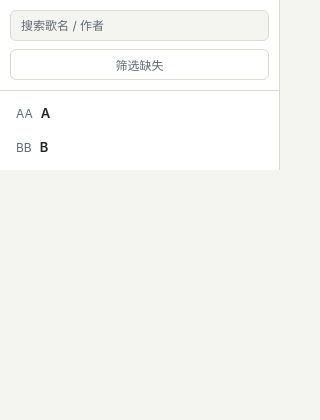
Scenario: SongList — 缺失筛选面板 › 扫描有错误且无命中时不误报为没有缺失歌曲
What coordinates should you click on to do the following:
click the button with class "missing-filter-btn"
I would click on:
 (140, 64)
Its box is left=10, top=49, right=269, bottom=80.
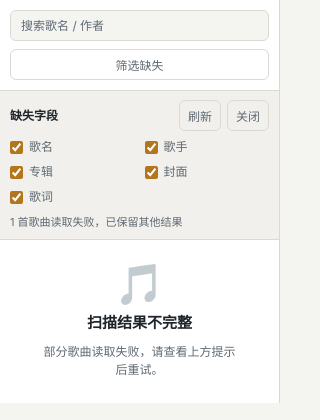
Expected: the text "扫描结果不完整" is shown, left=87, top=312, right=192, bottom=335
Expected: the text "1 首歌曲读取失败" is shown, left=10, top=215, right=183, bottom=229
